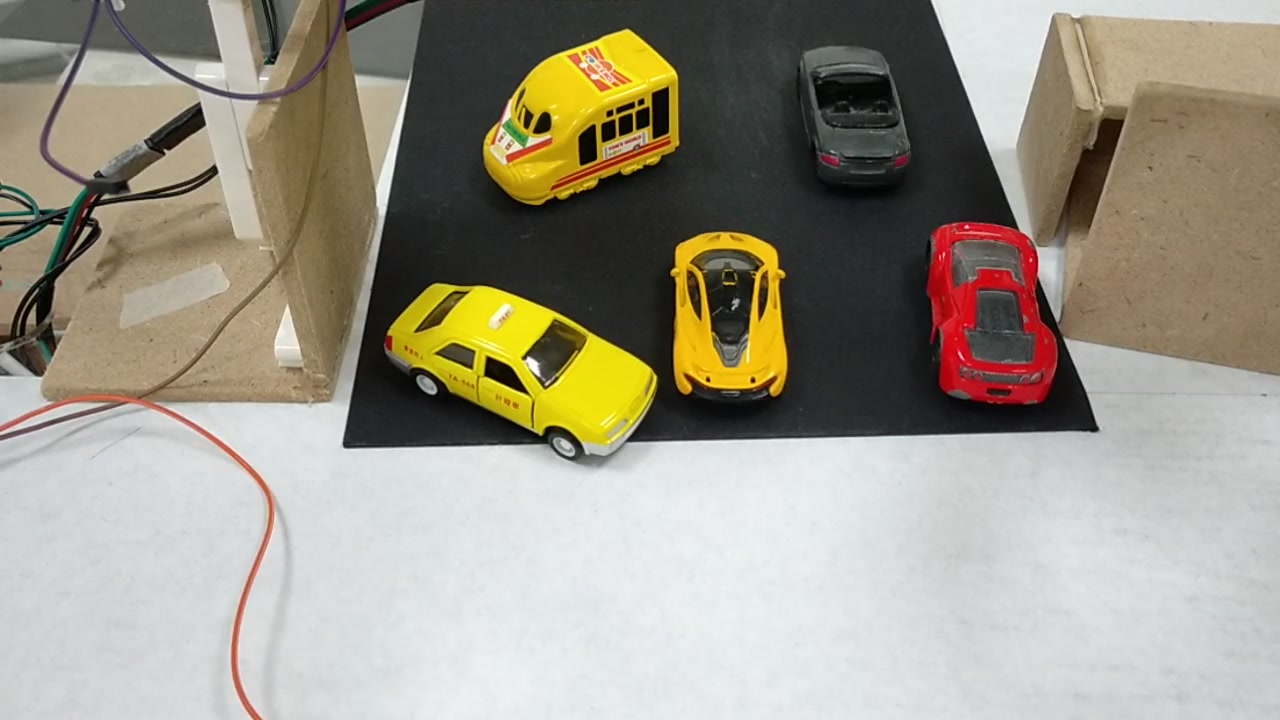car: (382, 279, 653, 464), (920, 223, 1063, 415), (666, 233, 784, 401), (794, 43, 913, 184)
